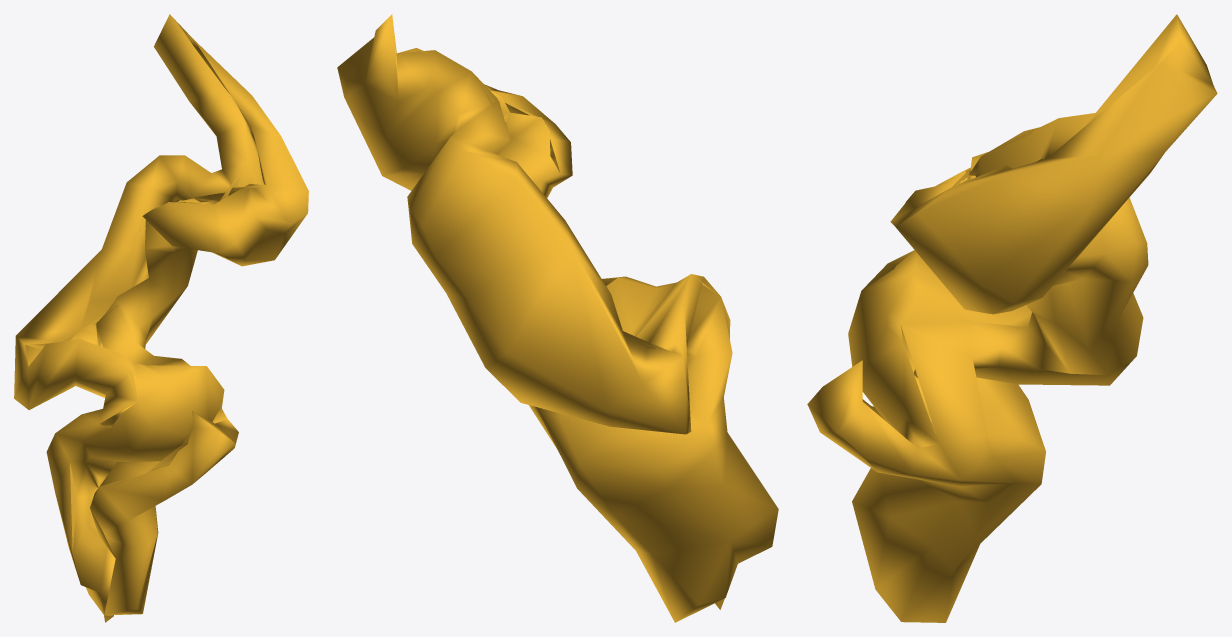
Rendered from nervoso-precentral-sulcus-inferior-part-r.glb.
3 views of the same model, side by side, from view 1: azimuth 30°, elevation 25°; view 2: azimuth 150°, elevation 25°; view 3: azimuth 270°, elevation 25° (orthographic). The views are drawn at different scales.
Parts seen in each view (by area): view 1: Precentral sulcus (inferior part)*.r; view 2: Precentral sulcus (inferior part)*.r; view 3: Precentral sulcus (inferior part)*.r.
Boxes of the visible parts, left/top/right/bottom form: Precentral sulcus (inferior part)*.r: left=14, top=14, right=308, bottom=622; Precentral sulcus (inferior part)*.r: left=337, top=14, right=778, bottom=622; Precentral sulcus (inferior part)*.r: left=807, top=14, right=1217, bottom=622.
Size of the model in its own units: 0.0263 by 0.0479 by 0.0253.
